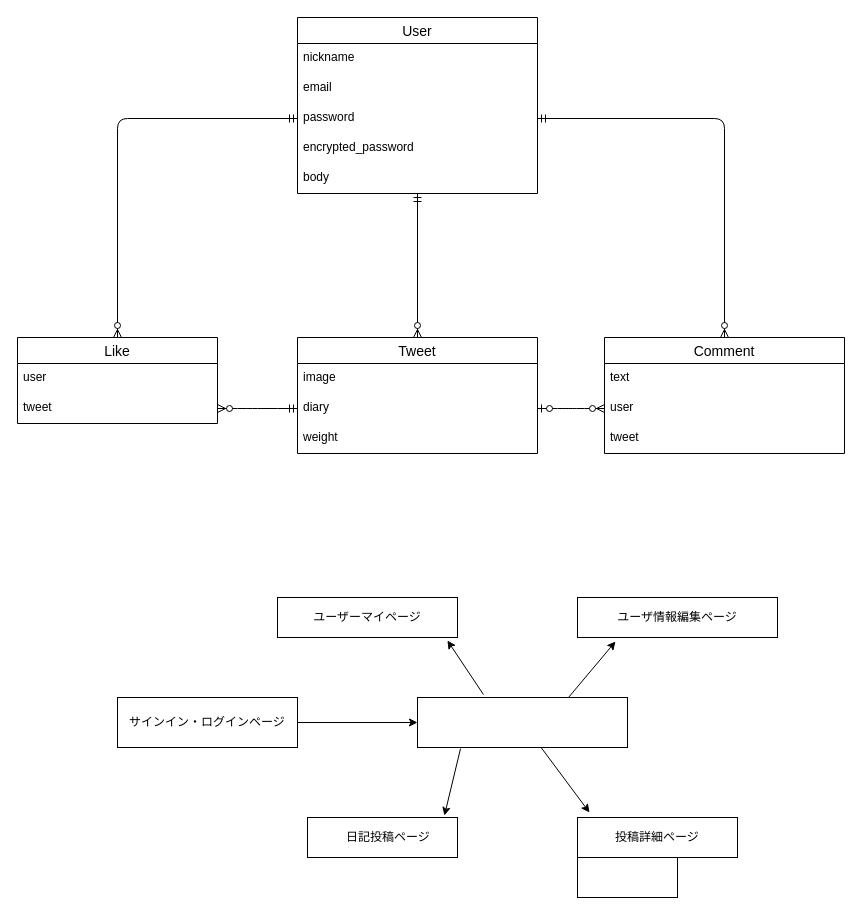
Some shapes in this 862 by 915 pixel diagram are drawn without their labels. The centre of each missing label's shape, as x and y in pixels:
"コメント" belongs at [627,877].
"トップページ" belongs at [522,722].
